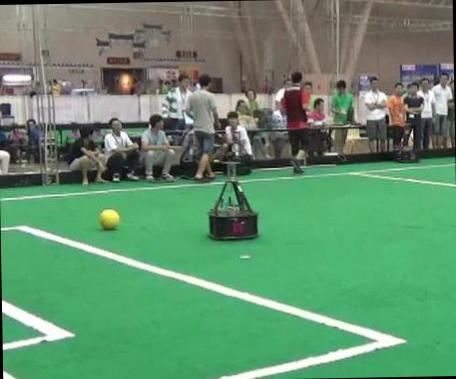ball: (98, 208, 120, 228)
person: (186, 73, 220, 181), (281, 71, 308, 173)
robot: (209, 161, 258, 239)
